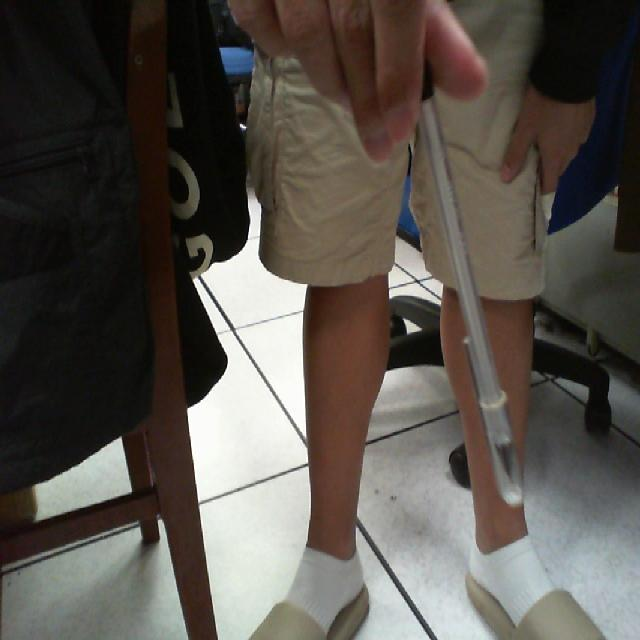Pen: (407, 43, 541, 546)
